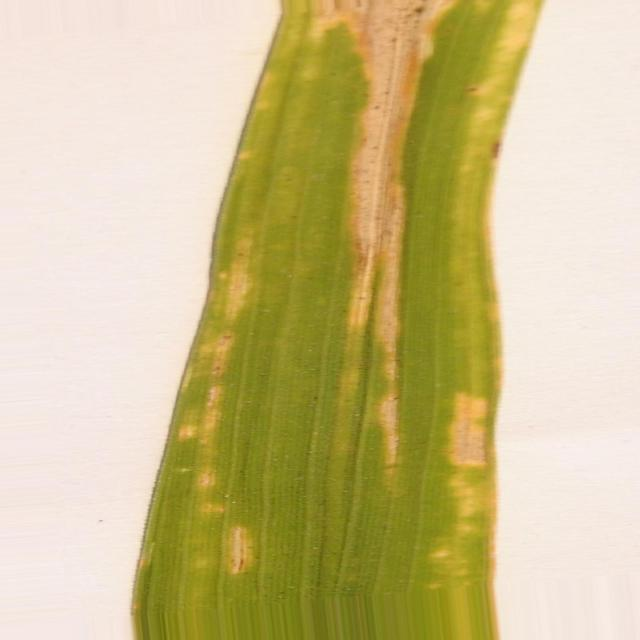Bacterial_Leaf_Blight: (315, 0, 451, 465), (450, 392, 488, 466), (500, 0, 541, 61), (226, 259, 249, 318), (229, 526, 252, 574), (211, 334, 232, 376), (198, 471, 215, 488), (179, 425, 198, 439), (208, 386, 219, 408)
